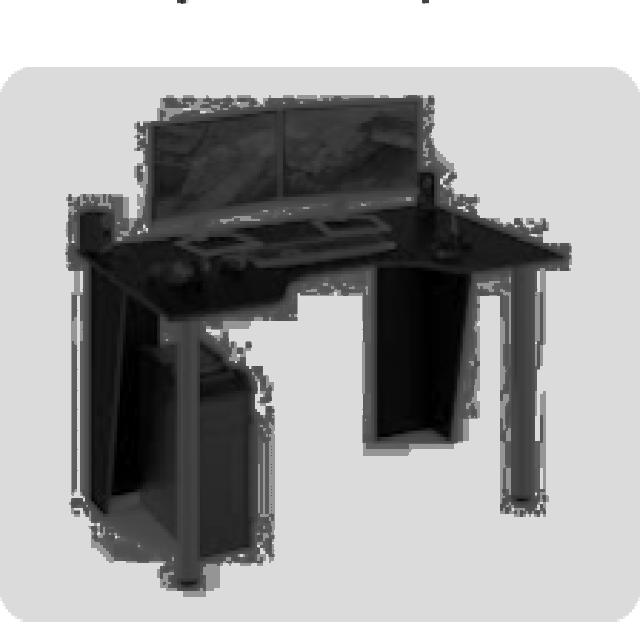table: (71, 197, 566, 585)
